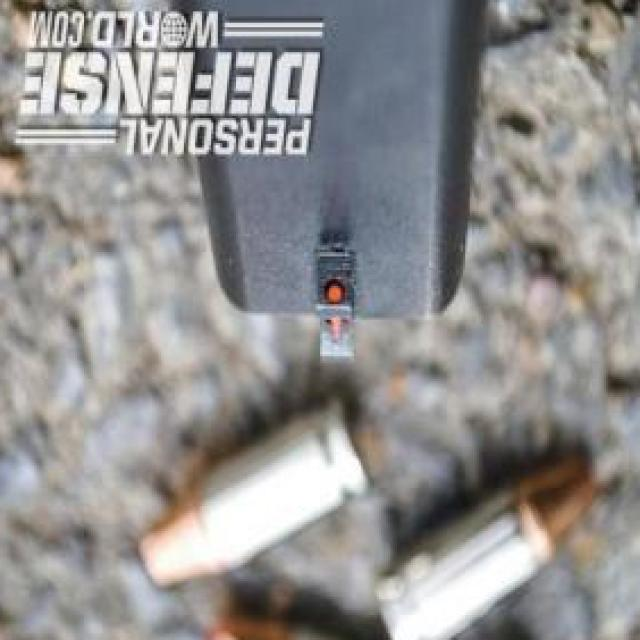pistol: (161, 0, 488, 375)
